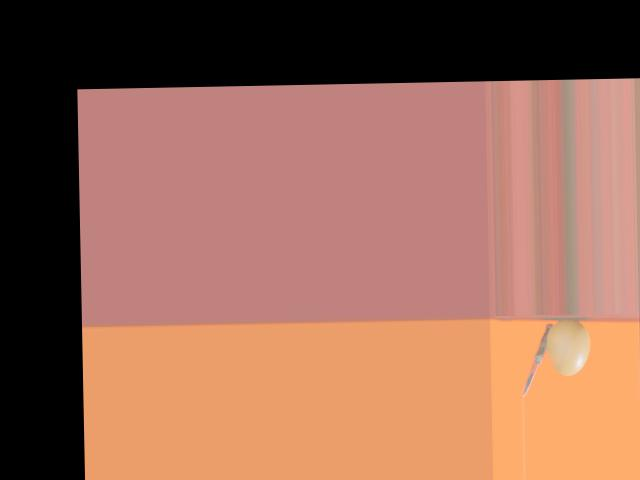egg: (546, 319, 589, 374)
